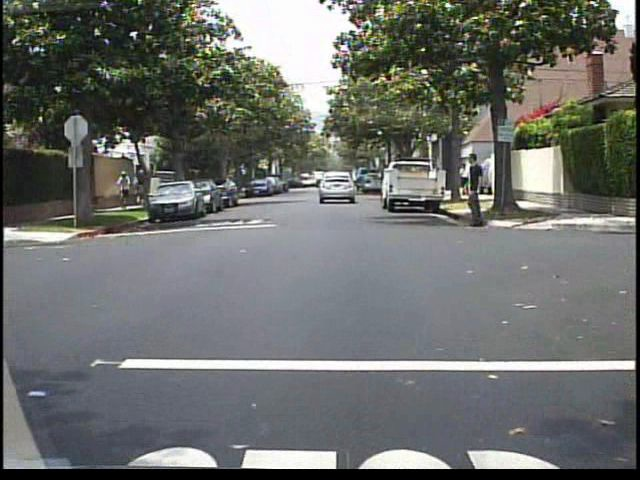person: (459, 153, 501, 233), (114, 167, 136, 205), (172, 169, 189, 204), (459, 161, 470, 197)
